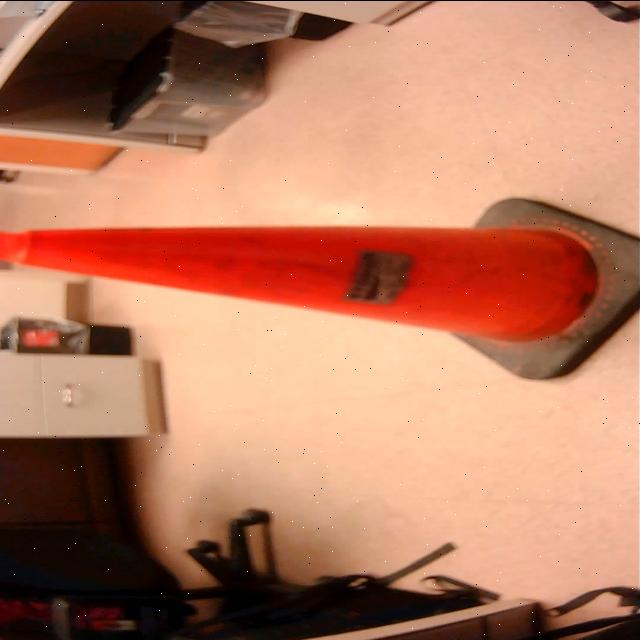traffic cone: (1, 193, 640, 385)
